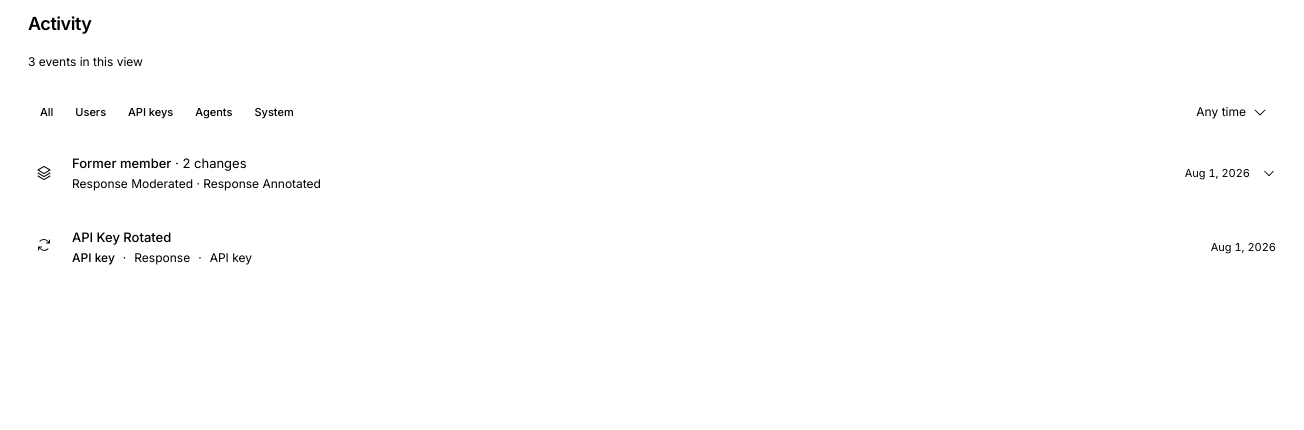
Test: AuditClient › collapses a same-actor burst into one expandable block
Check: the text "API Key Rotated" is shown, box [72, 228, 171, 244]
Click the button "2 changes".
click(122, 163)  # box [12, 138, 1292, 208]
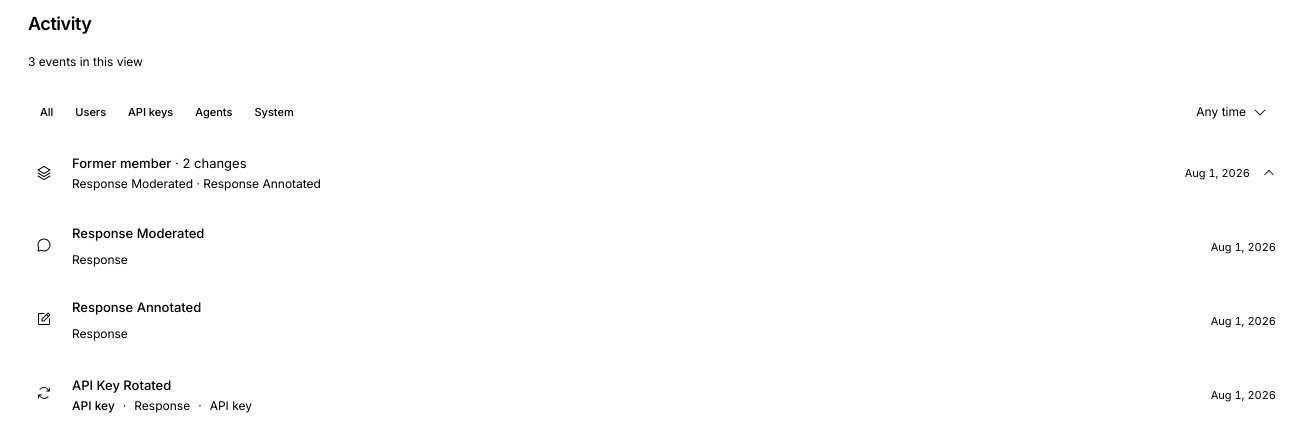
Check: the button "2 changes" is expanded, box [12, 138, 1292, 208]
Check: the text "Response Moderated" is shown, box [72, 224, 204, 240]
Check: the text "Response Annotated" is shown, box [72, 298, 201, 314]
